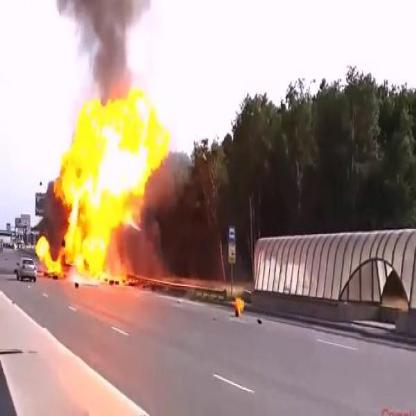fire: (36, 80, 178, 280), (235, 291, 245, 318)
